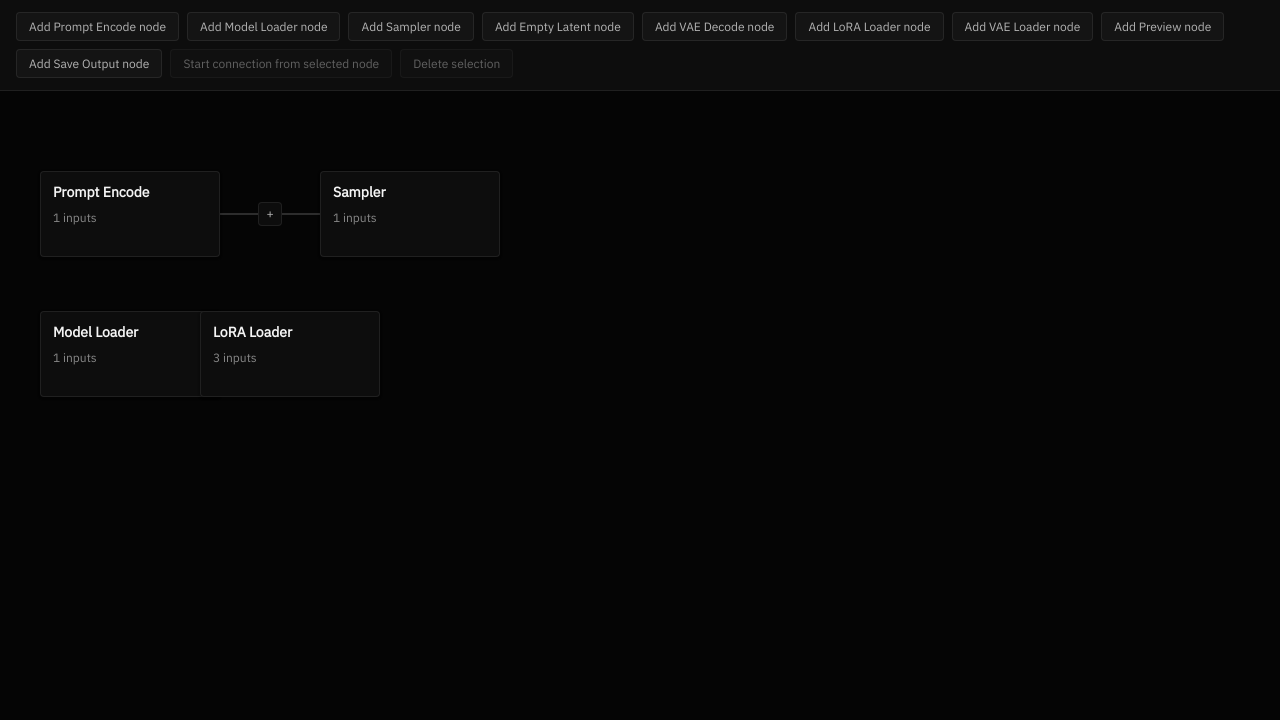
Test: WorkflowGraphEditor › LoRA Loader inspector (#43) › offers the installed-LoRA library with the current selection applied
Click the button with aria-label "LoRA Loader node" at (290, 354), box [200, 311, 380, 397]
(page scrolled)
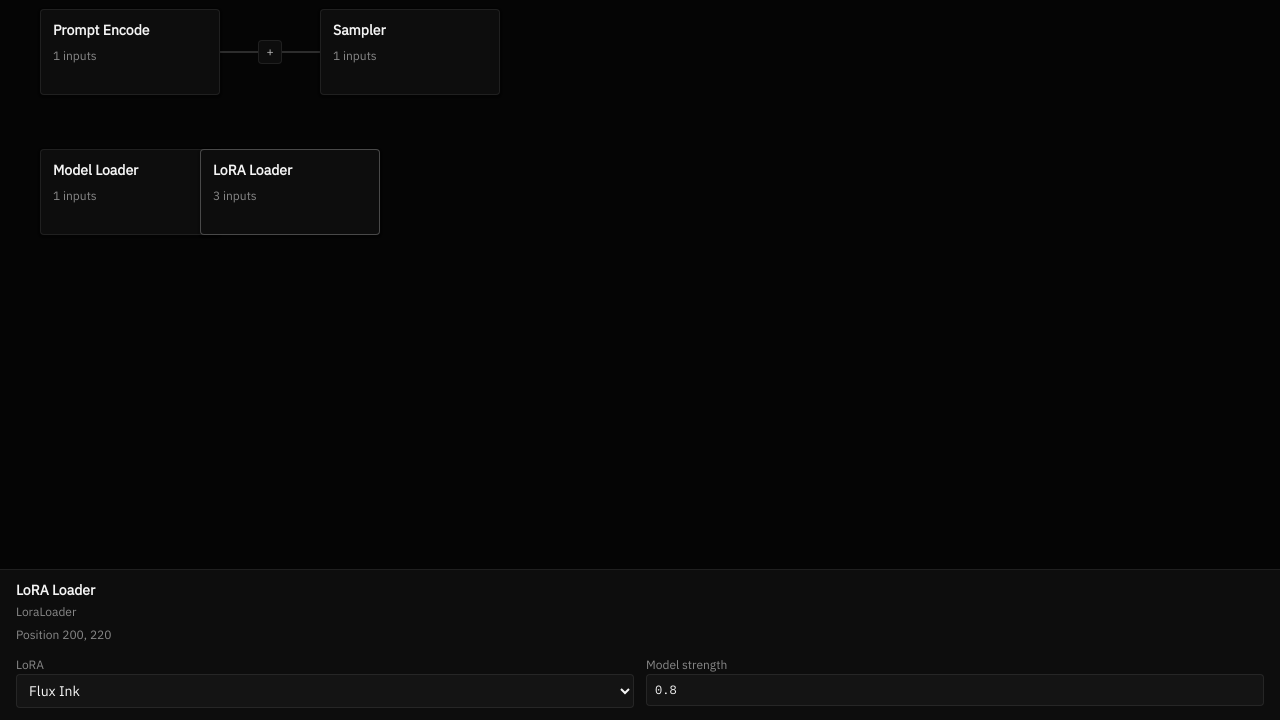
Now the dropdown named "LoRA selection" shows "Flux Ink", box [16, 674, 634, 708]
